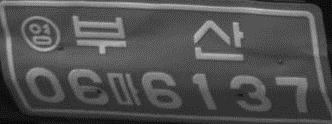0: (24, 66, 66, 104)
1: (187, 70, 222, 111)
3: (229, 74, 271, 112)
6: (142, 70, 183, 110), (67, 67, 107, 106)
7: (274, 76, 310, 114)
마: (107, 69, 141, 107)
부산_D: (69, 15, 246, 62)
영: (19, 15, 61, 52)
